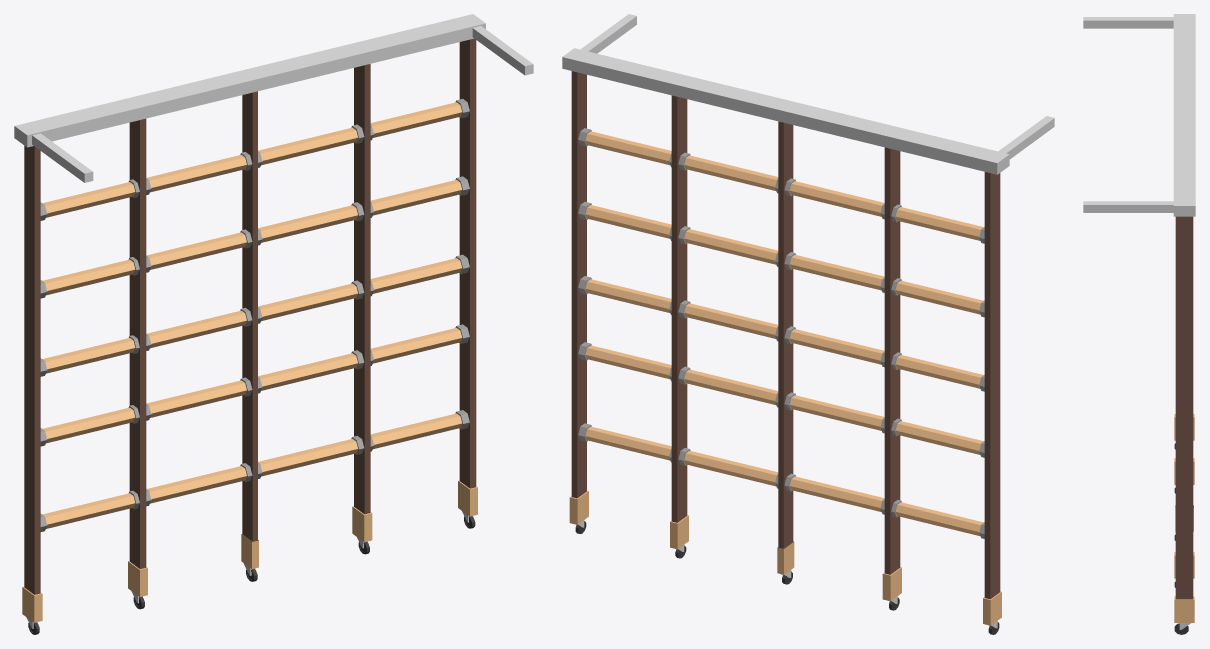
The model's file is Klimrek.fbx.
3 views of the same model, side by side, from view 1: azimuth 30°, elevation 25°; view 2: azimuth 150°, elevation 25°; view 3: azimuth 270°, elevation 25° (orthographic). The views are drawn at different scales.
Parts seen in each view (by area): view 1: Kubus, Kubus.001; view 2: Kubus, Kubus.001; view 3: Kubus, Kubus.001.
Boxes of the visible parts, left/top/right/bottom form: Kubus: left=22, top=38, right=477, bottom=634; Kubus.001: left=14, top=14, right=533, bottom=182; Kubus: left=569, top=71, right=1001, bottom=634; Kubus.001: left=562, top=14, right=1054, bottom=174; Kubus: left=1174, top=216, right=1194, bottom=634; Kubus.001: left=1083, top=14, right=1195, bottom=216.
Bounding box in the file's own units: 4 × 4.21 × 0.9864.
